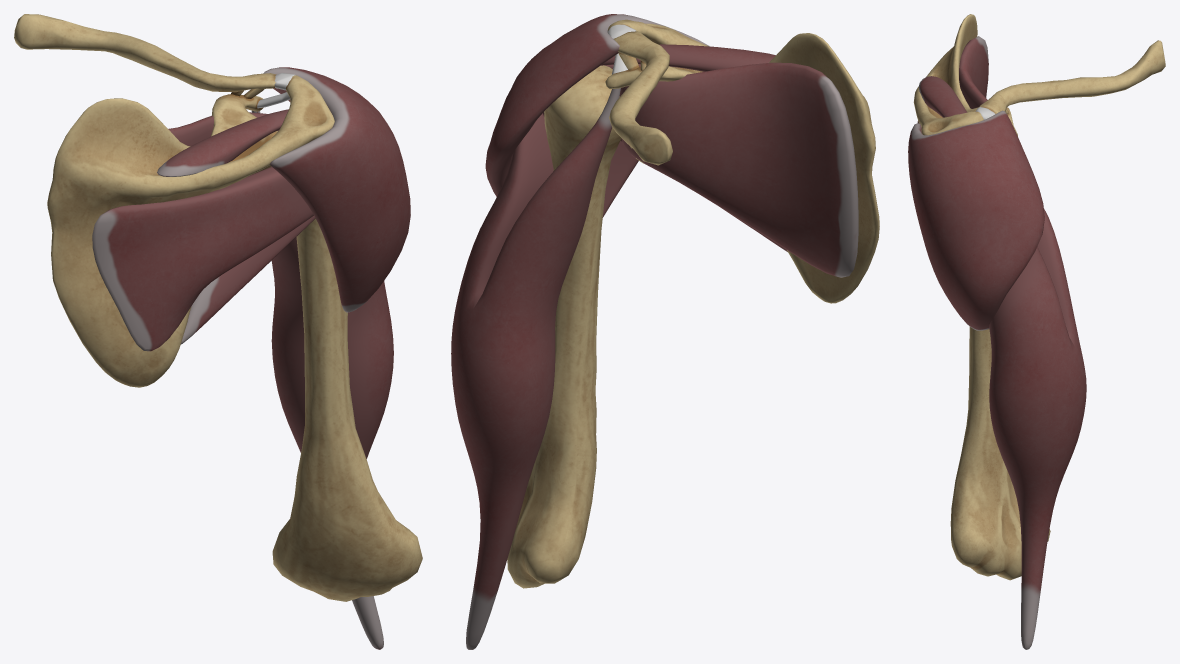
File: shoulder.glb
3 views of the same model, side by side, from view 1: azimuth 30°, elevation 25°; view 2: azimuth 150°, elevation 25°; view 3: azimuth 270°, elevation 25° (orthographic). The views are drawn at different scales.
Parts seen in each view (by area): view 1: pCube10, polySurface1; view 2: polySurface1, pCube10; view 3: polySurface1, pCube10.
Part boxes in pixels (x1,y1,x2,y2): pCube10: (14,14,422,601); polySurface1: (92,67,410,649); polySurface1: (451,14,858,649); pCube10: (507,19,879,588); polySurface1: (908,36,1086,649); pCube10: (913,14,1165,580).
Size of the model in its own units: 0.3135 by 0.523 by 0.2373.
Materials: 2 (2 with a texture image).
